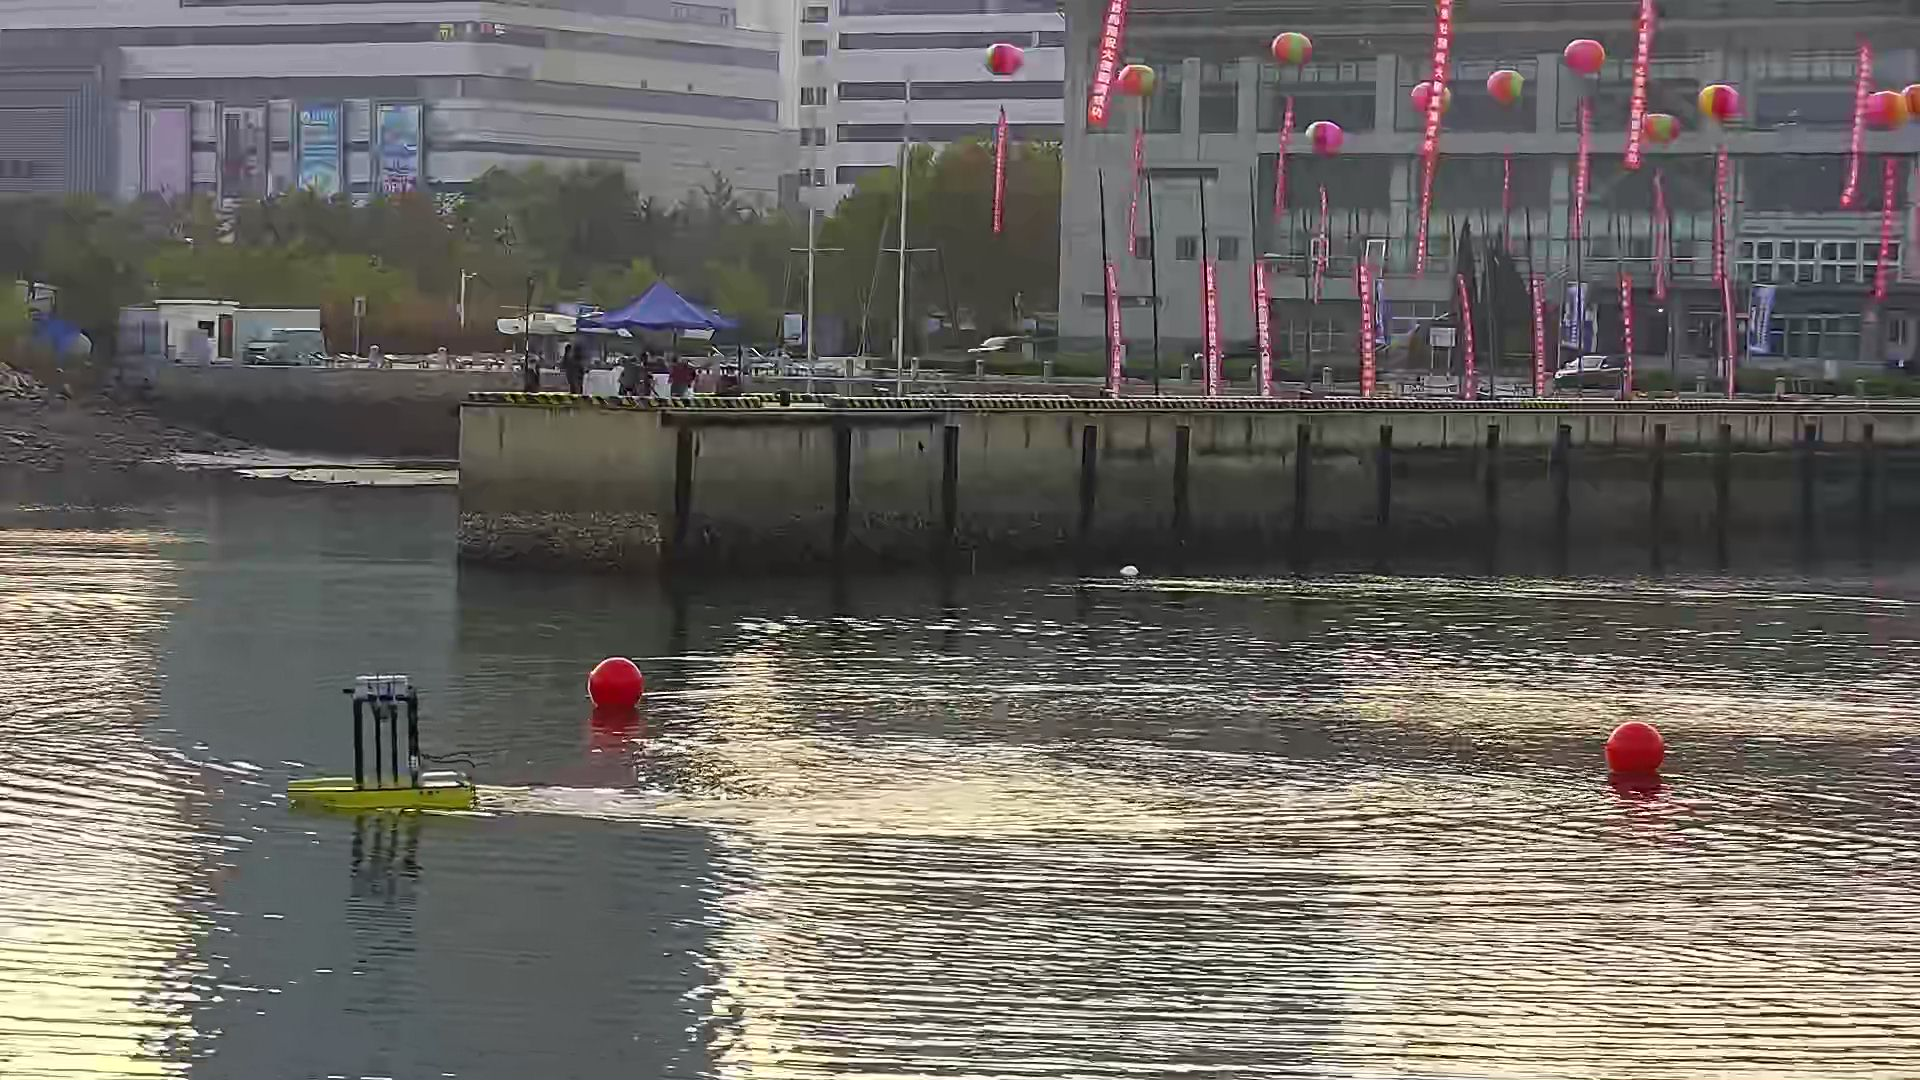ball: (1604, 717, 1665, 778), (588, 659, 645, 716)
boat: (285, 673, 477, 816)
